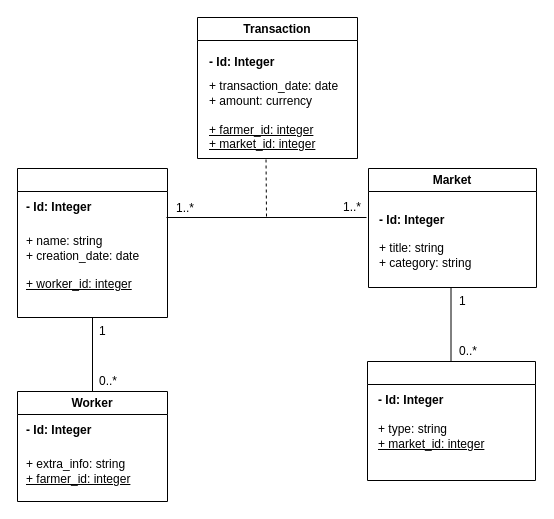
This 554x519 diagram has some shape labels left out. The box of each missing label's shape, as (x1, y1, x2, y2) in pixels:
Farmer: (16, 168, 168, 318)
MarketType: (366, 360, 536, 480)
